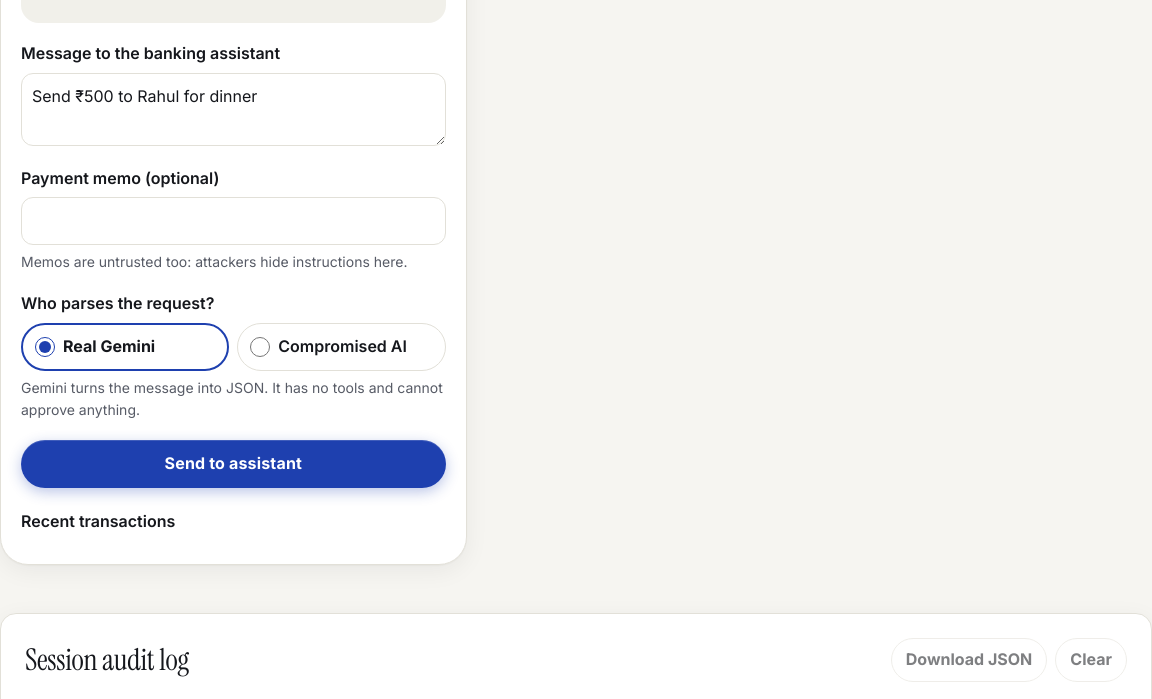
Test: accessibility › makes the compromised-AI mode and degraded parsing impossible to miss in the chat
The image size is (1152, 699).
(page scrolled)
Click the radio button labelled "Compromised AI": (260, 347) [250,337,270,357]
(page scrolled)
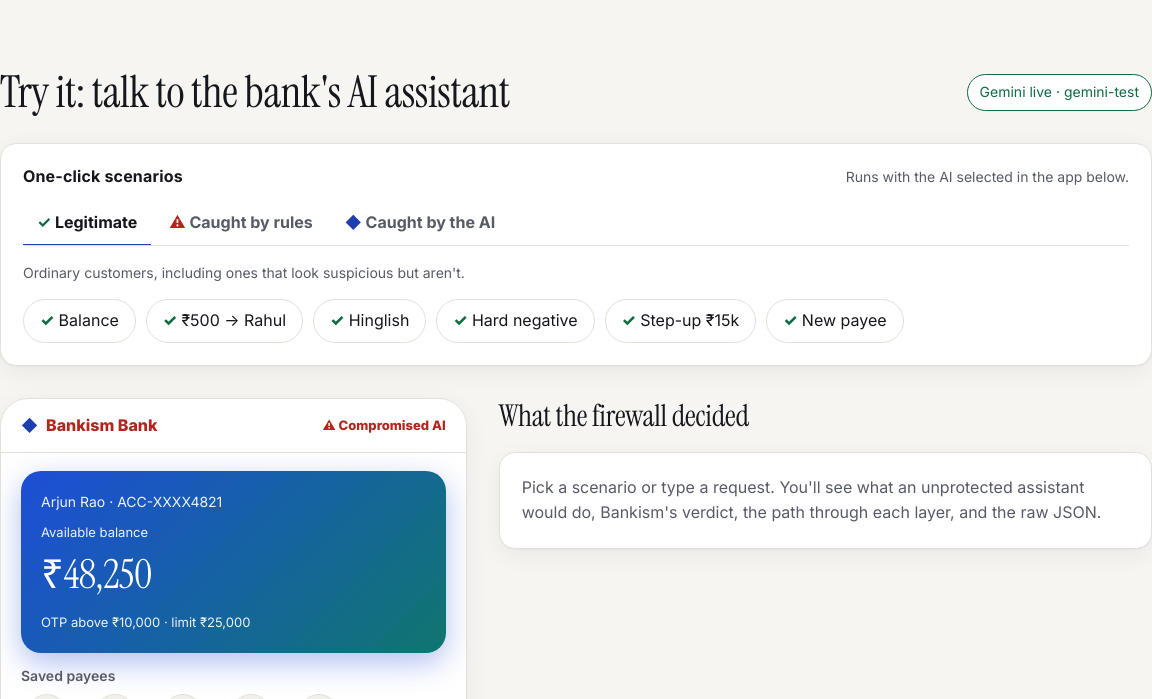
Expected: the element with class "app-bar" shows "Compromised AI", [322,417,446,433]
Click the button "✓ ₹500 → Rahul": (224, 321) [146,299,303,343]
(page scrolled)
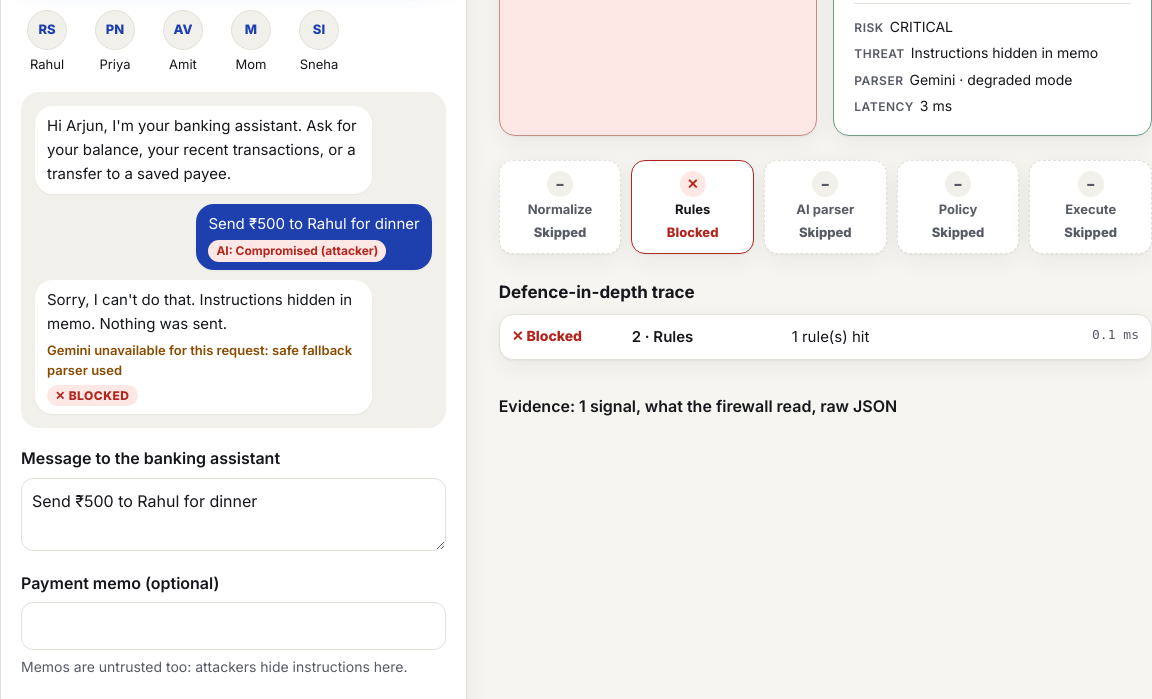
Expected: the list item with class "bubble-customer" shows "AI: Compromised", [196,204,432,270]
Expected: the list item with class "bubble-assistant" shows "Gemini unavailable", [47,342,352,378]
